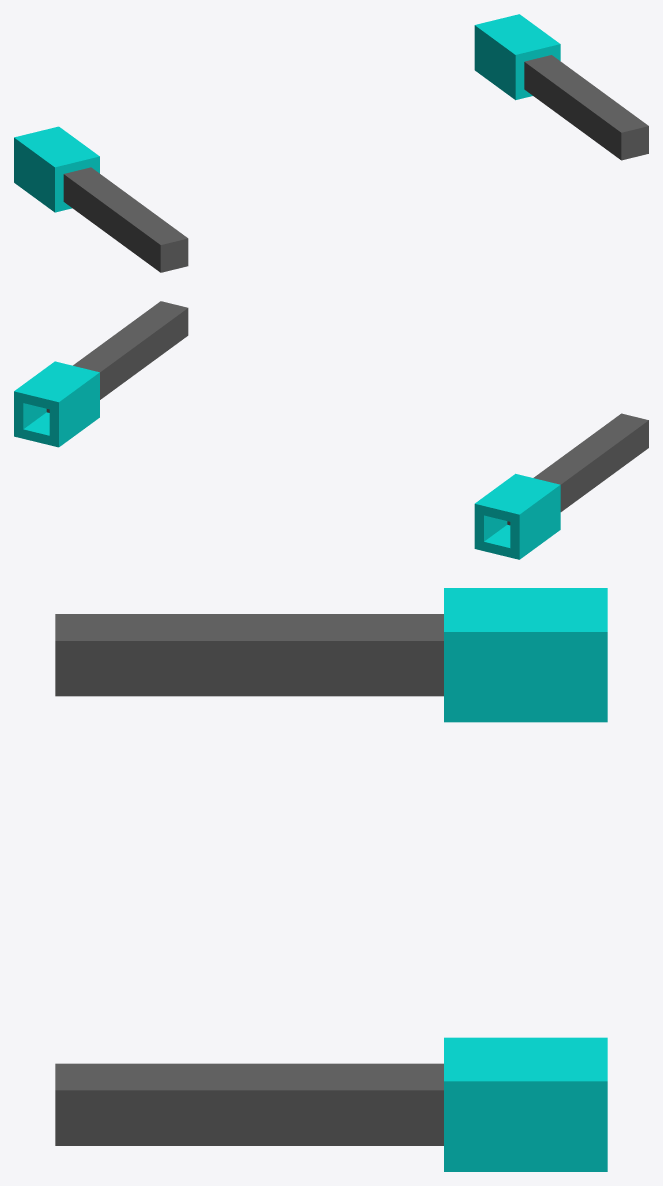
Rendered from TurretGuns.fbx.
The picture shows the model from 3 angles, top to bottom: view 1: azimuth 30°, elevation 25°; view 2: azimuth 150°, elevation 25°; view 3: azimuth 270°, elevation 25°; orthographic projection. The views are drawn at different scales.
Visible parts, largest first — view 1: Cylinder.003, Cylinder.004; view 2: Cylinder.004, Cylinder.003; view 3: Cylinder.003, Cylinder.004.
Boxes of the visible parts, <box> form: Cylinder.003: <box>474,14,648,160</box>; Cylinder.004: <box>14,126,188,272</box>; Cylinder.004: <box>474,413,648,559</box>; Cylinder.003: <box>14,301,188,447</box>; Cylinder.003: <box>55,1037,607,1171</box>; Cylinder.004: <box>55,588,607,722</box>.
Bounding box in the file's own units: 89.11 × 7.62 × 42.17.
